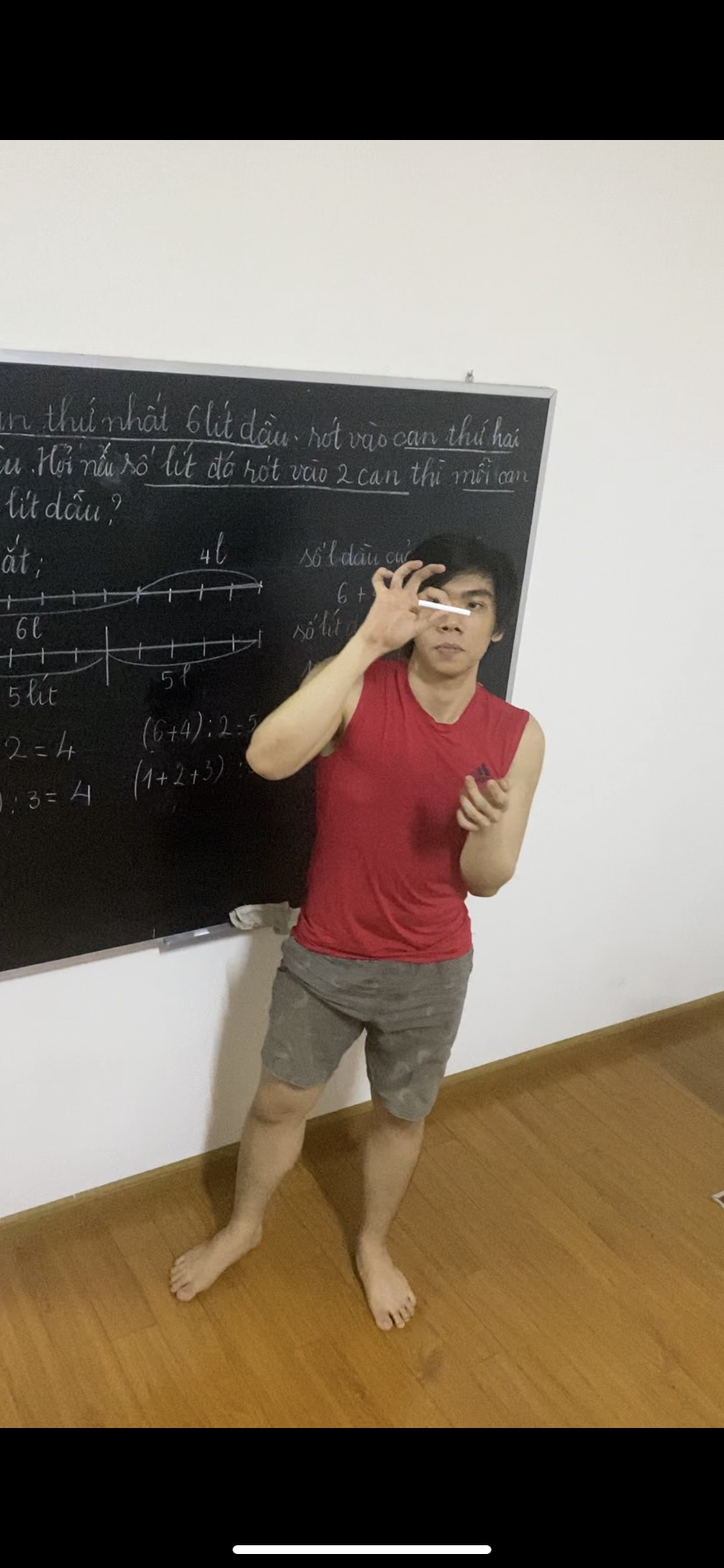cigarette: (413, 594, 474, 620)
person: (169, 520, 548, 1358)
